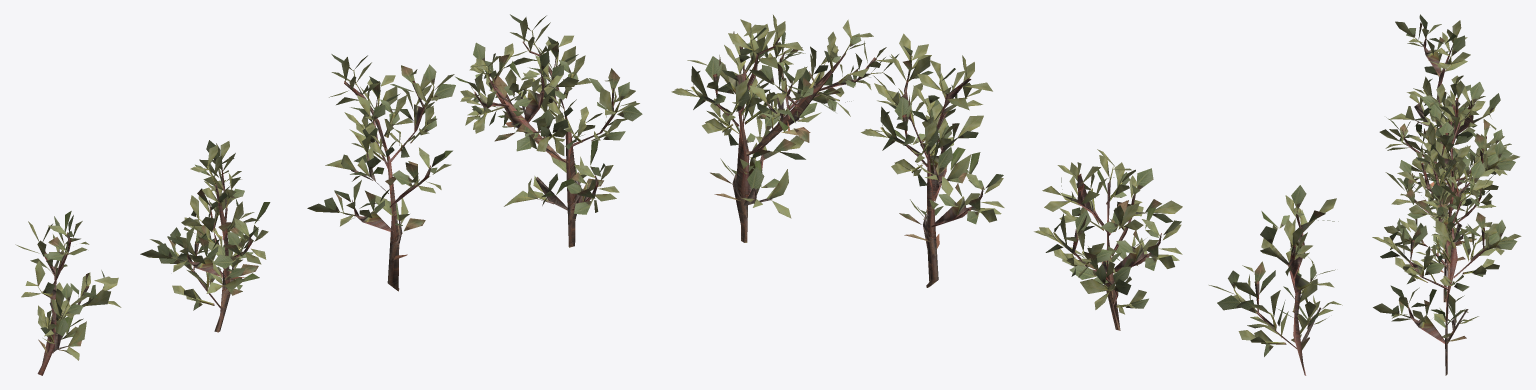
File: shrub_leafy.glb
The picture shows the model from 3 angles, left to right: view 1: azimuth 30°, elevation 25°; view 2: azimuth 150°, elevation 25°; view 3: azimuth 270°, elevation 25°; orthographic projection. The views are drawn at different scales.
Parts seen in each view (by area): view 1: shrub_04; view 2: shrub_04; view 3: shrub_04.
Part boxes in pixels (x1,y1,x2,y2): shrub_04: (15, 14, 642, 375); shrub_04: (671, 15, 1342, 375); shrub_04: (1372, 14, 1521, 375).
Bounding box in the file's own units: 4.25 × 1.6 × 1.06.
1 material, 1 textured.
